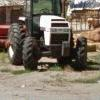Tractor: (6, 10, 90, 83)
